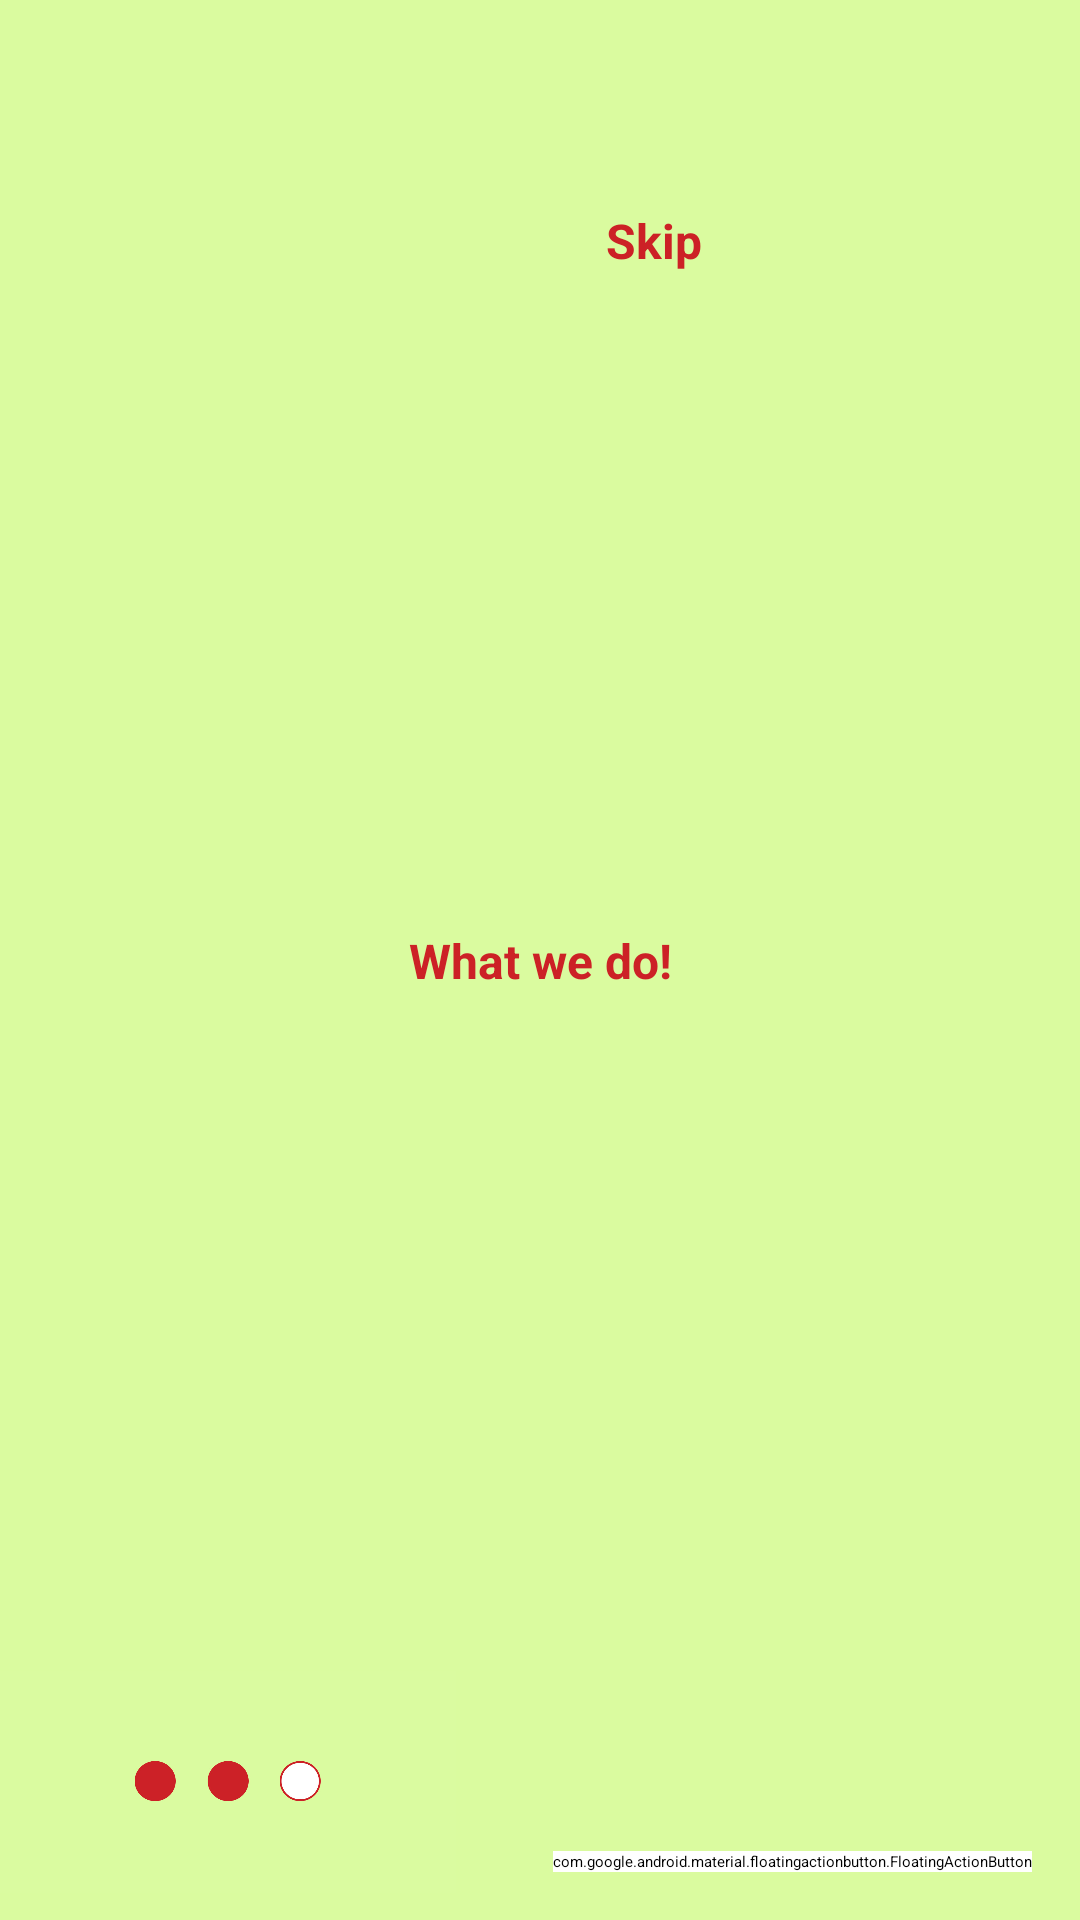

Named icons in this screenshot (1080*1920) and their centers, [x,y]:
tab: [228,1781]
